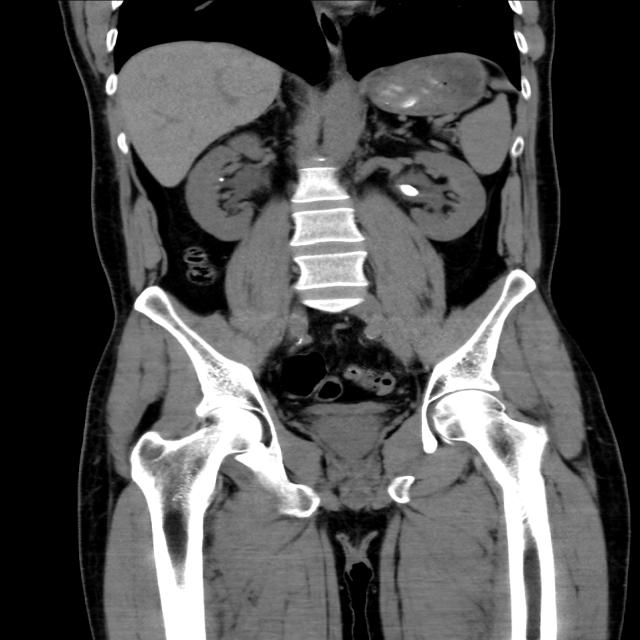kidneystone: (398, 184, 419, 196), (220, 178, 223, 181)
